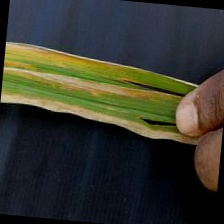Leaf_Blast: (8, 58, 194, 128)
